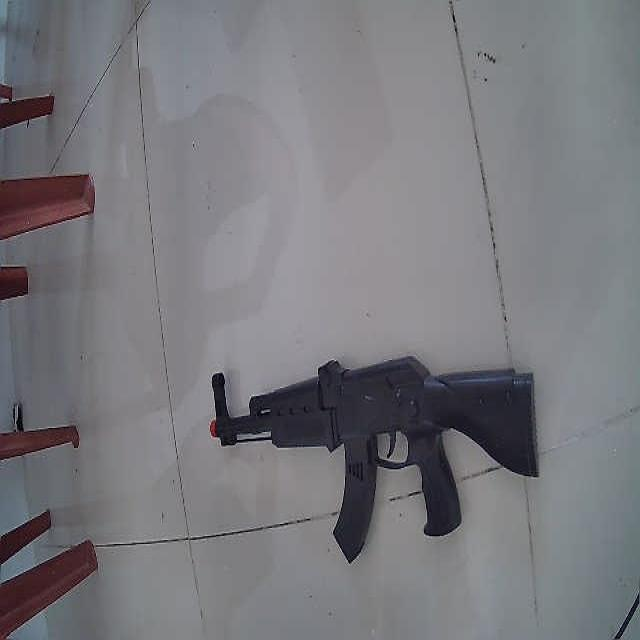rifle: (208, 355, 539, 564)
